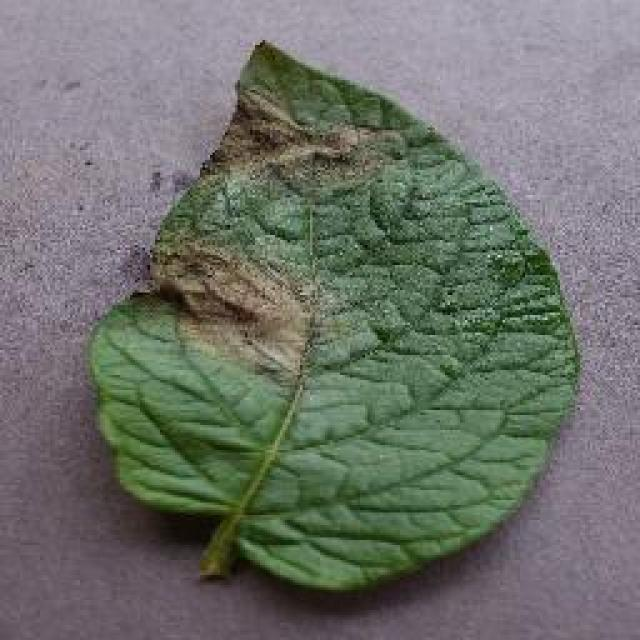late_blight: (82, 35, 582, 595)
